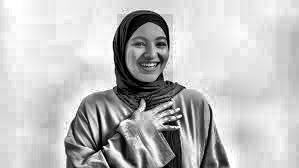happy: (117, 14, 173, 95)
